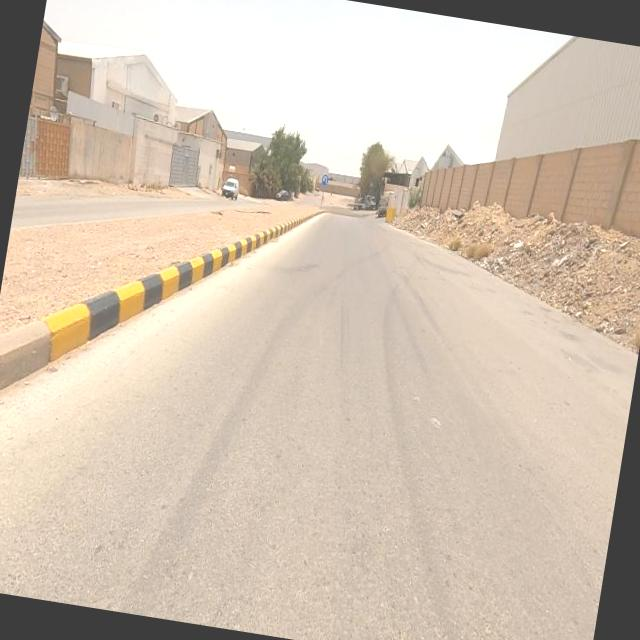debris: (481, 202, 556, 287)
